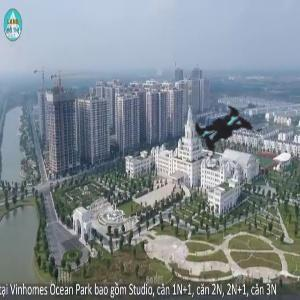drone: (159, 66, 295, 202)
